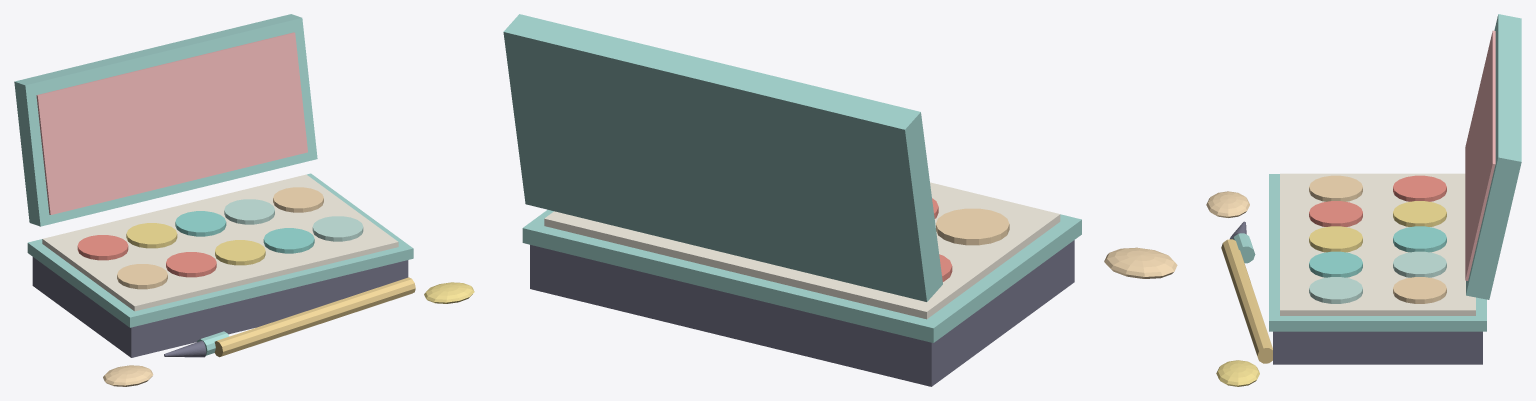
The model's file is item_94_watercolor_set.glb.
The picture shows the model from 3 angles, left to right: view 1: azimuth 30°, elevation 25°; view 2: azimuth 150°, elevation 25°; view 3: azimuth 270°, elevation 25°; orthographic projection. The views are drawn at different scales.
Parts seen in each view (by area): view 1: I94_LidIn, I94_Tray, I94_Lid, I94_Base, I94_Rim, I94_Brush, I94_Pan03, I94_Pan04, I94_Pan11, I94_Pan12, I94_Pan14, I94_Pan01 (+7 smaller); view 2: I94_Lid, I94_Base, I94_Rim, I94_Tray, I94_Pan00, I94_Blob0; view 3: I94_Tray, I94_Lid, I94_Base, I94_Rim, I94_LidIn, I94_Brush, I94_Pan14, I94_Pan04, I94_Pan00, I94_Pan02, I94_Pan10, I94_Pan01 (+7 smaller).
Part boxes in pixels (x1,y1,x2,y2): I94_LidIn: (36,32,307,214); I94_Tray: (42,174,398,311); I94_Lid: (14,14,317,226); I94_Base: (32,257,408,357); I94_Rim: (27,173,413,327); I94_Brush: (214,277,415,357); I94_Pan03: (263,228,314,253); I94_Pan04: (312,216,363,241); I94_Pan11: (126,223,177,248); I94_Pan12: (175,211,226,236); I94_Pan14: (273,187,323,212); I94_Pan01: (166,252,216,277); I94_Lid: (503,14,942,301); I94_Base: (530,240,1074,386); I94_Rim: (522,209,1081,342); I94_Tray: (544,182,1060,319); I94_Pan00: (936,208,1009,245); I94_Blob0: (1104,247,1177,278); I94_Tray: (1280,173,1475,315); I94_Lid: (1466,14,1521,299); I94_Base: (1273,331,1482,364); I94_Rim: (1269,174,1486,331); I94_LidIn: (1465,30,1495,280); I94_Brush: (1221,239,1272,363); I94_Pan14: (1393,277,1446,303); I94_Pan04: (1309,277,1362,303); I94_Pan00: (1309,175,1362,201); I94_Pan02: (1309,226,1362,252); I94_Pan10: (1393,175,1446,201); I94_Pan01: (1309,201,1362,226).
Size of the model in its own units: 0.2286 by 0.1157 by 0.158.
